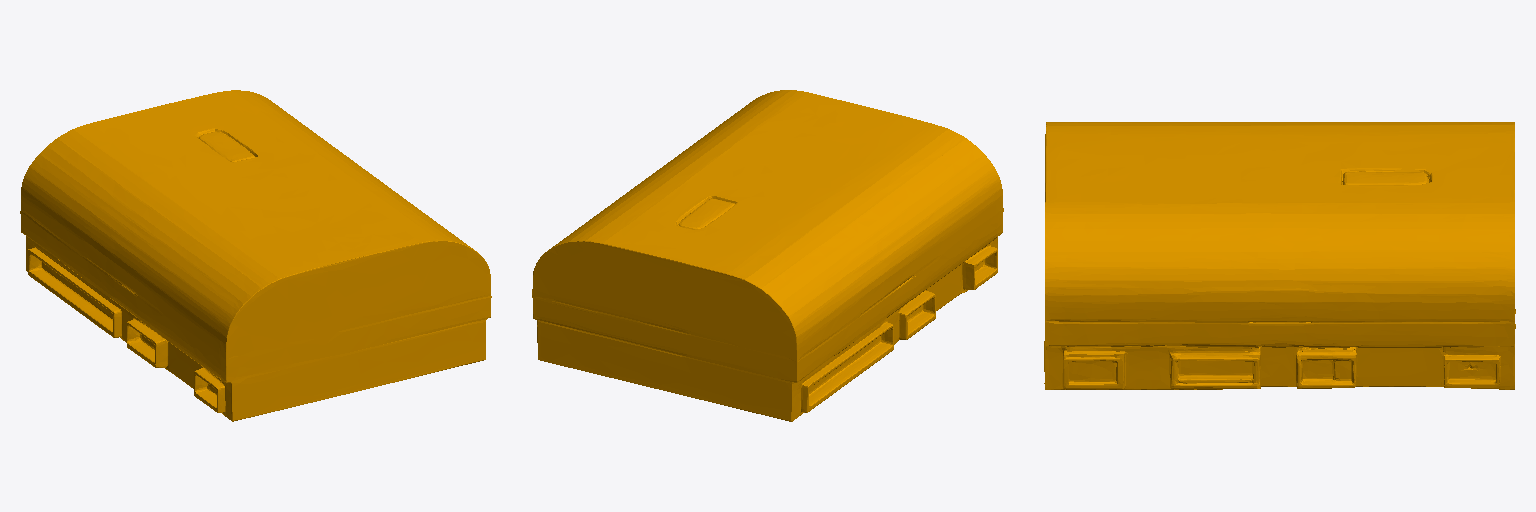
The robot description file, URDF, robot "sample":
<?xml version="1.0" ?>
<robot name="sample">
   <link name="sample">
      <visual>
         <origin xyz="0 0 0" rpy="1.5708 0.0 0.0"/>
         <geometry>
            <mesh filename="mesh/sample.obj" scale="1.0 1.0 1.0"/>
         </geometry>
      </visual>
      <collision>
         <origin xyz="0 0 0" rpy="1.5708 0.0 0.0"/>
         <geometry>
            <mesh filename="mesh/sample_collision.obj" scale="1.0 1.0 1.0"/>
         </geometry>
         <gazebo>
            <mu1>0.60</mu1>
            <mu2>0.50</mu2>
         </gazebo>
      </collision>
      <inertial>
         <mass value="0.7500"/>
         <origin xyz="0 0 0"/>
         <inertia ixx="1.0" ixy="0.0" ixz="0.0" iyy="1.0" iyz="0.0" izz="1.0"/>
      </inertial>
      <extra_info>
         <scale>0.140141</scale>
         <version>v0.1.7</version>
         <category>battery</category>
         <description>rectangular black battery with rounded top and contact terminals</description>
         <min_height>0.04</min_height>
         <max_height>0.06</max_height>
         <real_height>0.05</real_height>
         <min_mass>0.5</min_mass>
         <max_mass>1.0</max_mass>
         <color>black</color>
         <rgba>[0.0, 0.0, 0.0, 1.0]</rgba>
         <generate_time>20260625093917</generate_time>
         <gs_model>mesh/sample_gs.ply</gs_model>
      </extra_info>
   </link>
   <custom_data>
      <quality>
         <MeshGeoChecker>YES</MeshGeoChecker>
         <ImageSegChecker>NO, object is truncated and has artifacts on the right side.</ImageSegChecker>
         <ImageAestheticChecker>4.688856601715088</ImageAestheticChecker>
         <overall>NO</overall>
      </quality>
   </custom_data>
</robot>

--- Render facts (derived) ---
The picture shows the robot from 3 angles, left to right: view 1: azimuth 30°, elevation 25°; view 2: azimuth 150°, elevation 25°; view 3: azimuth 270°, elevation 25°; orthographic projection.
Model sample with 1 links and 0 joints (none), rooted at sample, posed all joints at 0.
Visible links, largest first — view 1: sample; view 2: sample; view 3: sample.
Boxes of the visible links, left/top/right/bottom form: sample: left=20, top=90, right=491, bottom=421; sample: left=532, top=90, right=1003, bottom=421; sample: left=1044, top=122, right=1515, bottom=389.
Size in the robot's own frame: 0.1055 by 0.1401 by 0.05 metres.
1 mesh visuals loaded from 1 distinct referenced files (1 OBJ).
